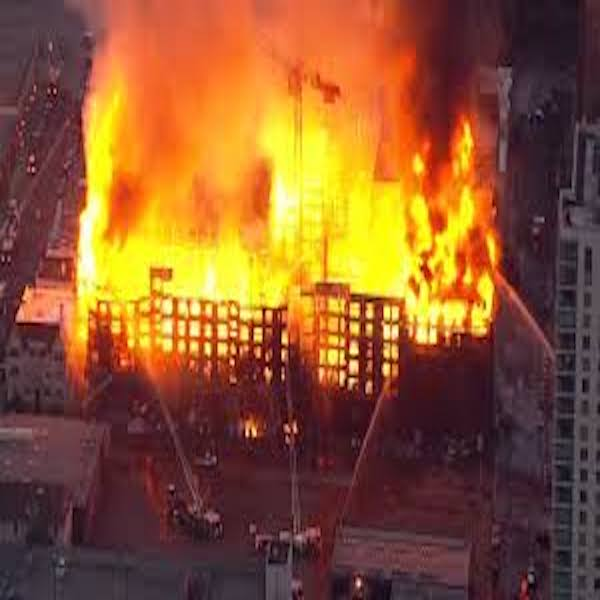fire: (78, 57, 499, 299), (317, 306, 397, 382), (164, 301, 270, 351), (75, 303, 152, 371), (406, 299, 494, 342)
